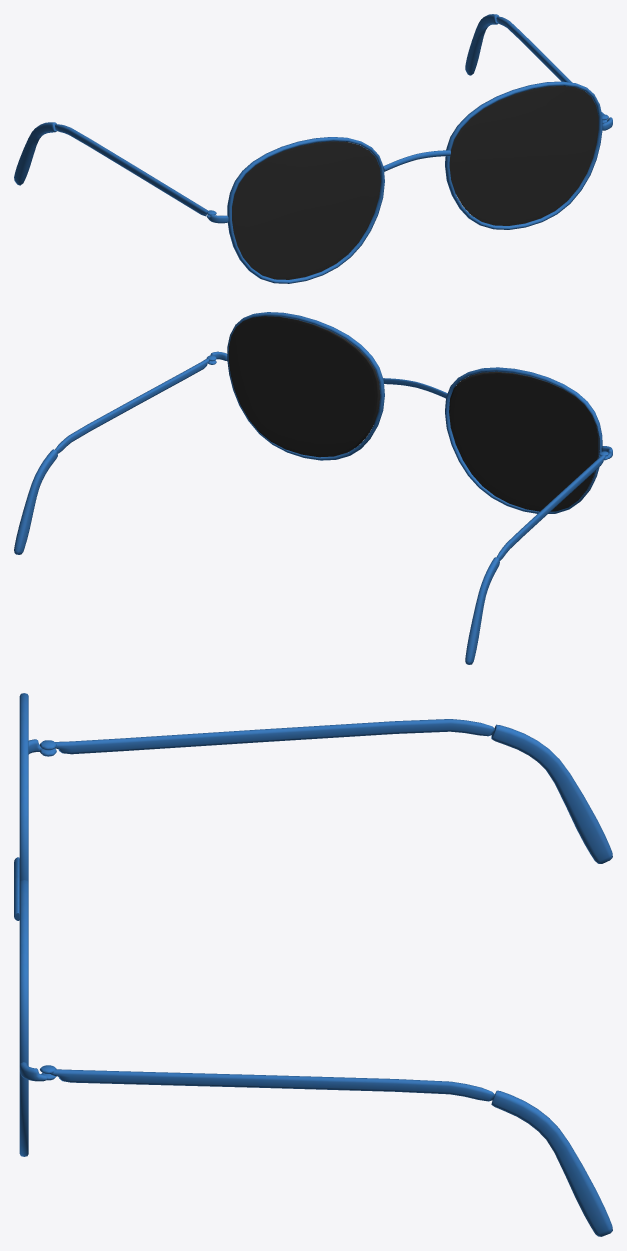
3 renders of one model, top to bottom at view 1: azimuth 30°, elevation 25°; view 2: azimuth 150°, elevation 25°; view 3: azimuth 270°, elevation 25°, orthographic. The views are drawn at different scales.
Visible parts, largest first — view 1: Glass1; view 2: Glass1; view 3: Glass1.
Part boxes in pixels (x1,y1,x2,y2): Glass1: (14, 14, 612, 283); Glass1: (14, 312, 612, 664); Glass1: (14, 693, 612, 1236).
Size of the model in its own units: 49.36 by 14.55 by 33.03.
Materials: 2 (1 with a texture image).
